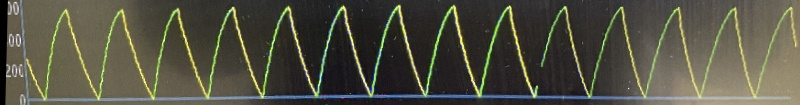normal_volume: (41, 0, 771, 105)
